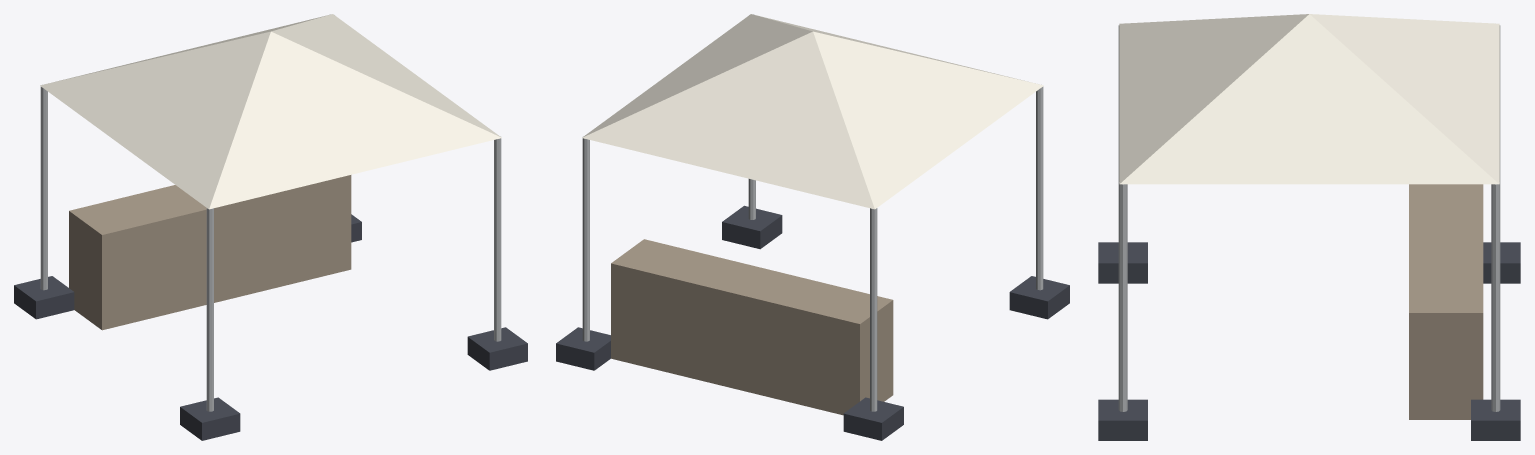
Rendered from SM_Tonnelle_asso.glb.
The picture shows the model from 3 angles, left to right: view 1: azimuth 30°, elevation 25°; view 2: azimuth 150°, elevation 25°; view 3: azimuth 270°, elevation 25°; orthographic projection. The views are drawn at different scales.
Visible parts, largest first — view 1: SM_Tonnelle_asso_4, SM_Tonnelle_asso_5, SM_Tonnelle_asso_7, SM_Tonnelle_asso_9, SM_Tonnelle_asso_6, SM_Tonnelle_asso_1, SM_Tonnelle_asso_3, SM_Tonnelle_asso_0; view 2: SM_Tonnelle_asso_4, SM_Tonnelle_asso_5, SM_Tonnelle_asso_6, SM_Tonnelle_asso_9, SM_Tonnelle_asso_7, SM_Tonnelle_asso_8, SM_Tonnelle_asso_0, SM_Tonnelle_asso_2, SM_Tonnelle_asso_1; view 3: SM_Tonnelle_asso_4, SM_Tonnelle_asso_5, SM_Tonnelle_asso_2, SM_Tonnelle_asso_3, SM_Tonnelle_asso_8, SM_Tonnelle_asso_9, SM_Tonnelle_asso_7, SM_Tonnelle_asso_6.
Part boxes in pixels (x1,y1,x2,y2): SM_Tonnelle_asso_4: (40,14,501,209); SM_Tonnelle_asso_5: (69,175,351,330); SM_Tonnelle_asso_7: (180,397,240,440); SM_Tonnelle_asso_9: (467,327,527,370); SM_Tonnelle_asso_6: (14,276,74,319); SM_Tonnelle_asso_1: (206,208,213,411); SM_Tonnelle_asso_3: (494,136,501,341); SM_Tonnelle_asso_0: (40,84,47,290); SM_Tonnelle_asso_4: (582,14,1043,209); SM_Tonnelle_asso_5: (611,239,893,415); SM_Tonnelle_asso_6: (843,397,903,440); SM_Tonnelle_asso_9: (722,205,782,249); SM_Tonnelle_asso_7: (1009,276,1069,319); SM_Tonnelle_asso_8: (556,327,610,370); SM_Tonnelle_asso_0: (870,208,877,411); SM_Tonnelle_asso_2: (582,136,589,341); SM_Tonnelle_asso_1: (1036,84,1043,290); SM_Tonnelle_asso_4: (1119,14,1499,184); SM_Tonnelle_asso_5: (1409,184,1483,419); SM_Tonnelle_asso_2: (1491,182,1500,411); SM_Tonnelle_asso_3: (1118,182,1127,411); SM_Tonnelle_asso_8: (1471,399,1520,440); SM_Tonnelle_asso_9: (1098,399,1147,440); SM_Tonnelle_asso_7: (1098,242,1147,283); SM_Tonnelle_asso_6: (1483,242,1520,283).
Size of the model in its own units: 3.4 by 3 by 3.4.
